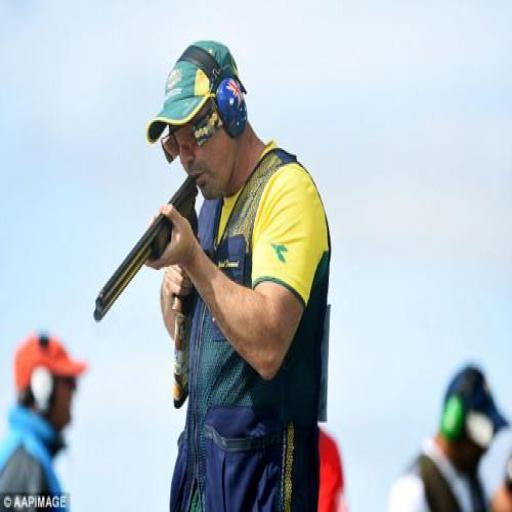shooting: (142, 38, 334, 510)
